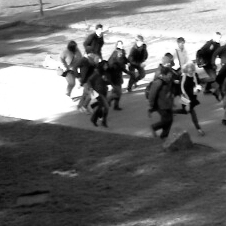person: (178, 61, 204, 136), (149, 69, 173, 139), (196, 31, 221, 98), (87, 60, 110, 126), (61, 39, 83, 98), (128, 33, 148, 93), (79, 47, 98, 108), (108, 51, 125, 111), (113, 38, 130, 89), (171, 35, 192, 73), (84, 21, 104, 58), (159, 53, 181, 80)
